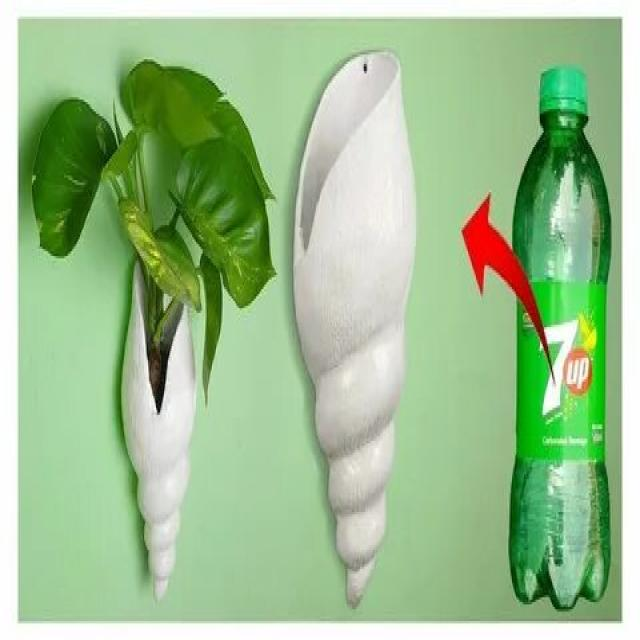green: (510, 112, 612, 612)
